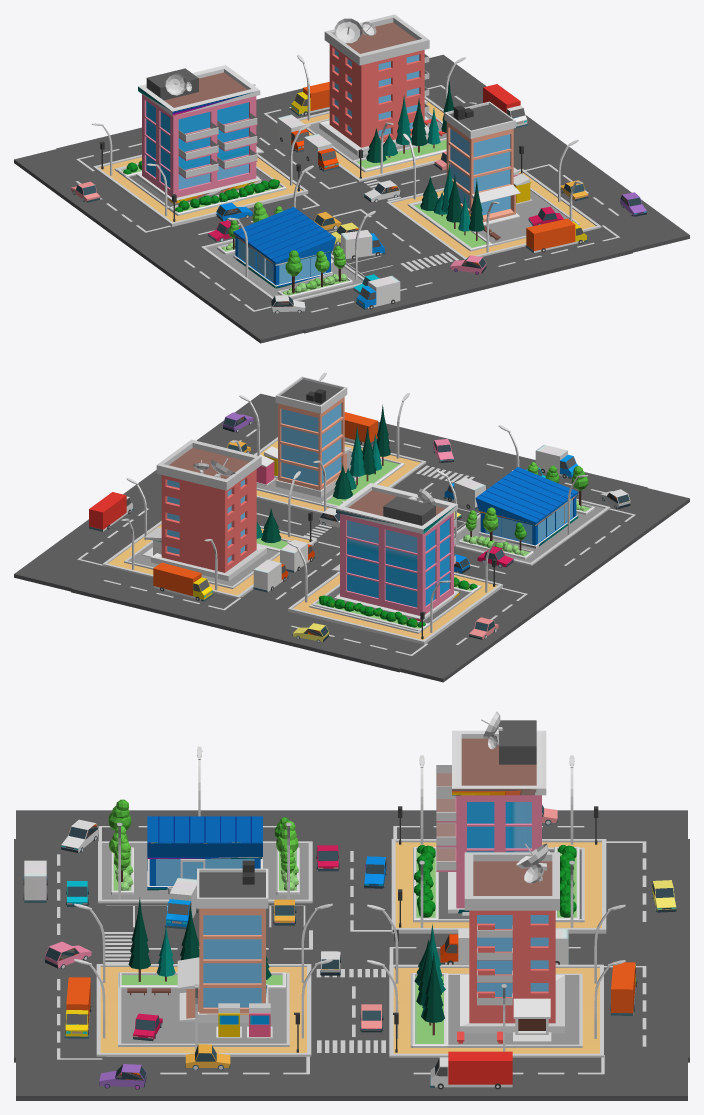
Rendered from lowcity.glb.
The picture shows the model from 3 angles, top to bottom: view 1: azimuth 30°, elevation 25°; view 2: azimuth 150°, elevation 25°; view 3: azimuth 270°, elevation 25°; orthographic projection. The views are drawn at different scales.
Parts seen in each view (by area): view 1: Antenne; view 2: Antenne; view 3: Antenne.
Part boxes in pixels (left/top/right/bottom): Antenne: left=14, top=14, right=689, bottom=343; Antenne: left=14, top=372, right=689, bottom=682; Antenne: left=14, top=711, right=689, bottom=1100.
Size of the model in its own units: 2192 by 609 by 2192.
1 material, 1 textured.
